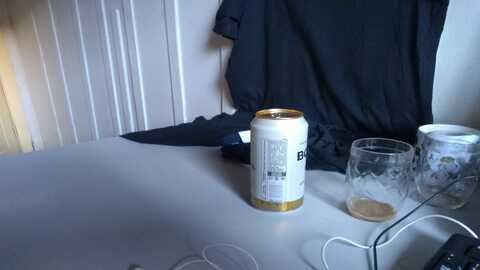bohemia: (251, 107, 310, 211)
